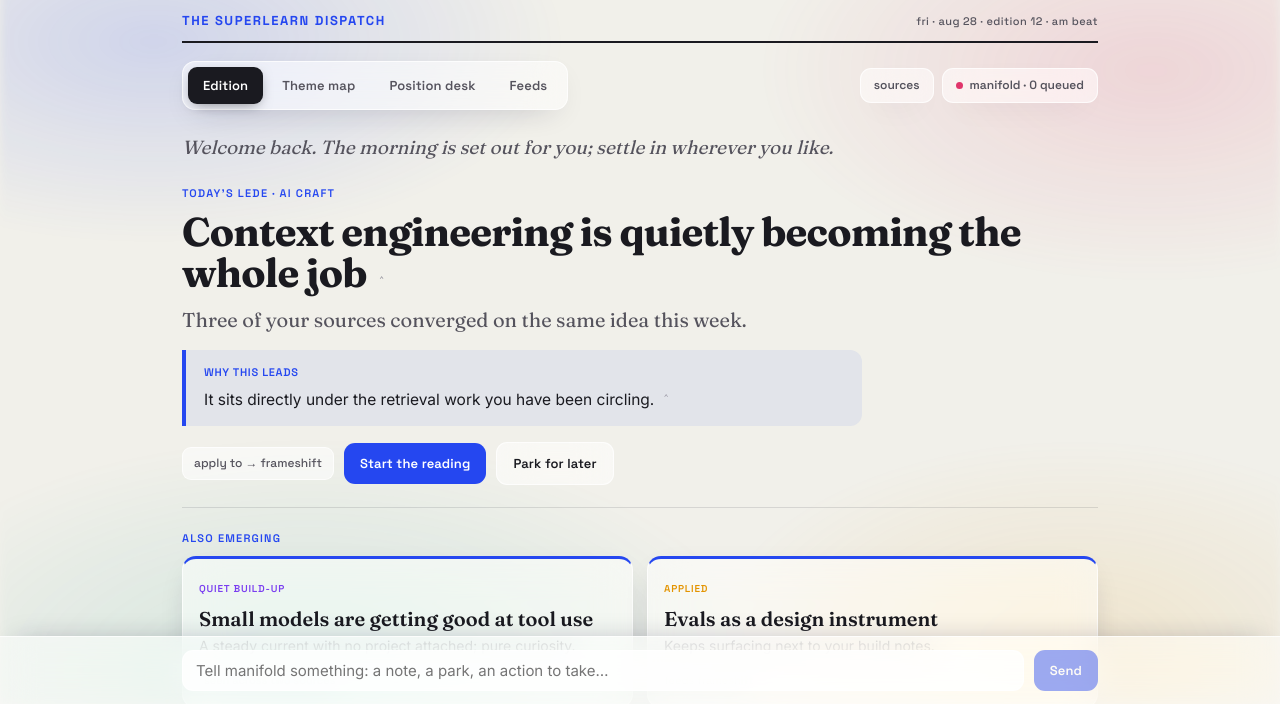
it: superlearn cockpit smoke › switches between edition, theme map, and position desk
This screenshot has width=1280, height=704.
Expected: the heading "Context engineering is quietly becoming the whole job" is shown, [182,206,1021,297]
Click the tab "Theme map" at (319, 86), box [267,67,370,104]
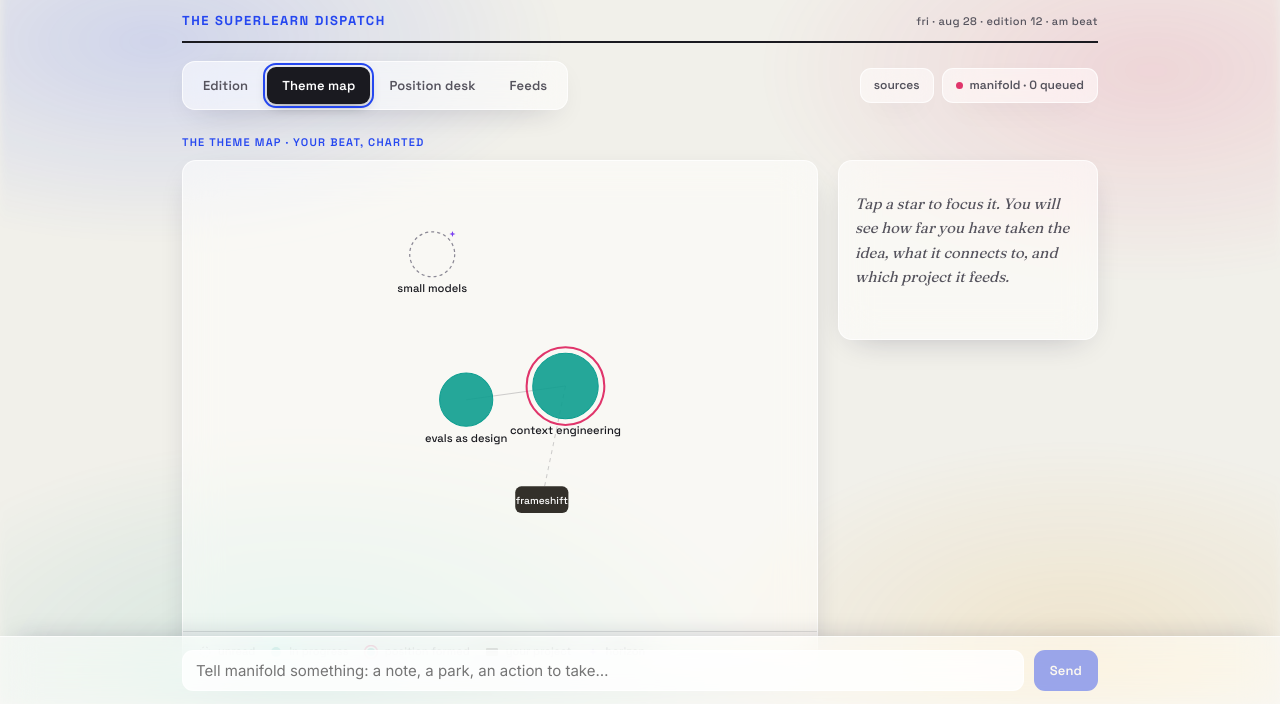
Expected: the text "position formed" is shown, [363,643,470,661]
Expected: the text "Tap a star to focus it" is shown, [855,194,1069,286]
Click the tab "Position desk" at (432, 86), box [374,67,490,104]
(page scrolled)
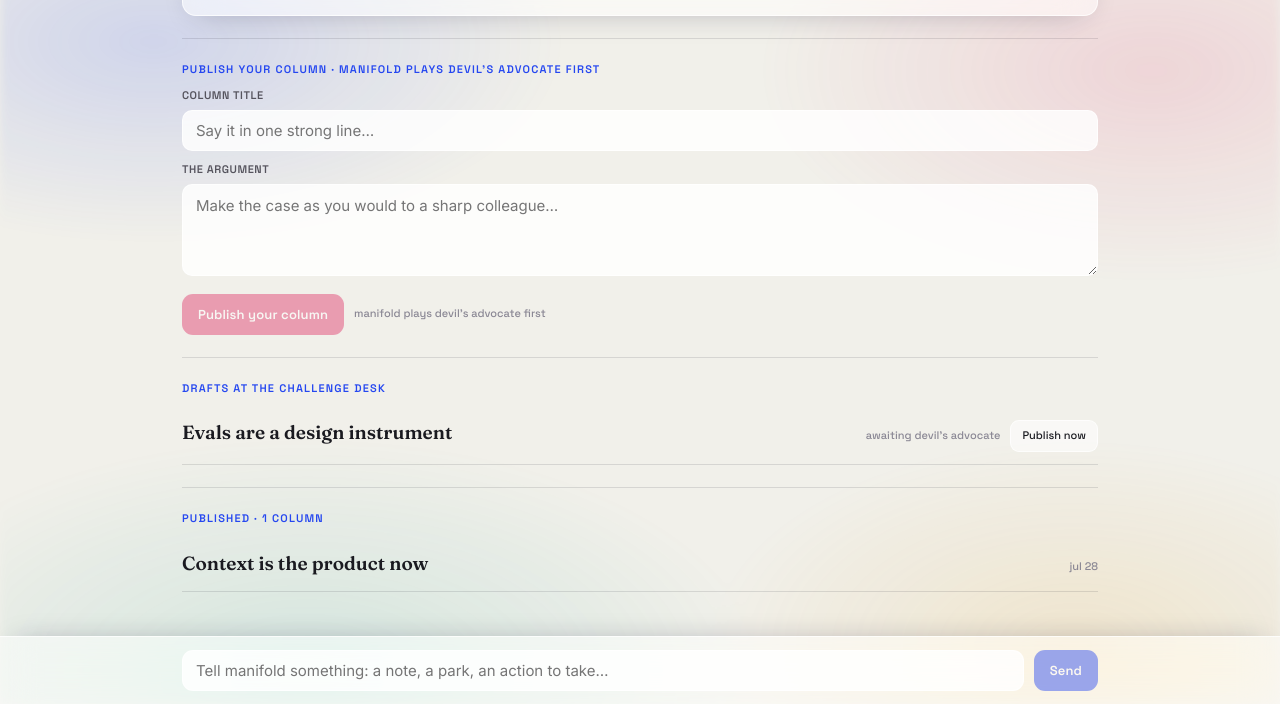
Expected: the text "Context is the product now" is shown, [182,548,428,579]
